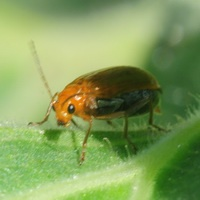insect: (28, 41, 165, 163)
